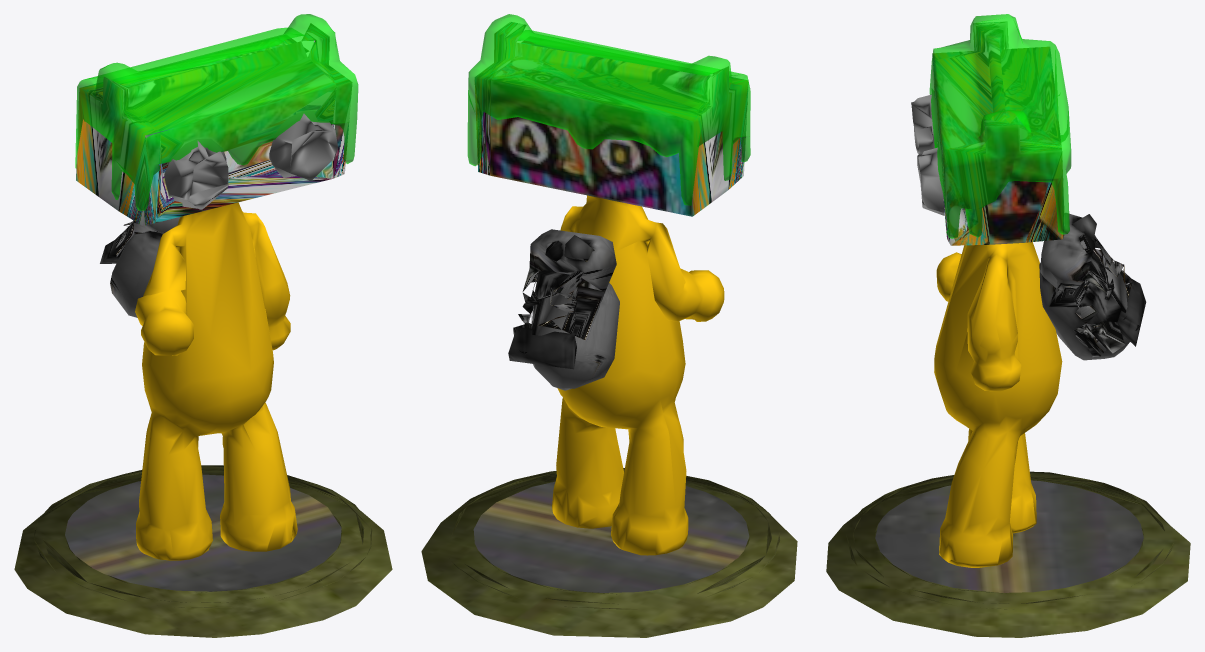
3 views of the same model, side by side, from view 1: azimuth 30°, elevation 25°; view 2: azimuth 150°, elevation 25°; view 3: azimuth 270°, elevation 25° (orthographic). The views are drawn at different scales.
Bounding box in the file's own units: 1.44 × 2.15 × 1.42.
Materials: 7 (4 with a texture image).
